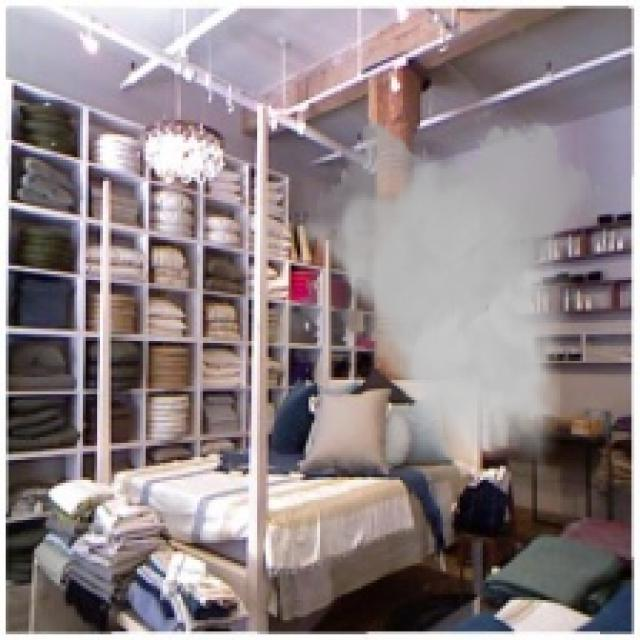smoke: (254, 111, 603, 480)
